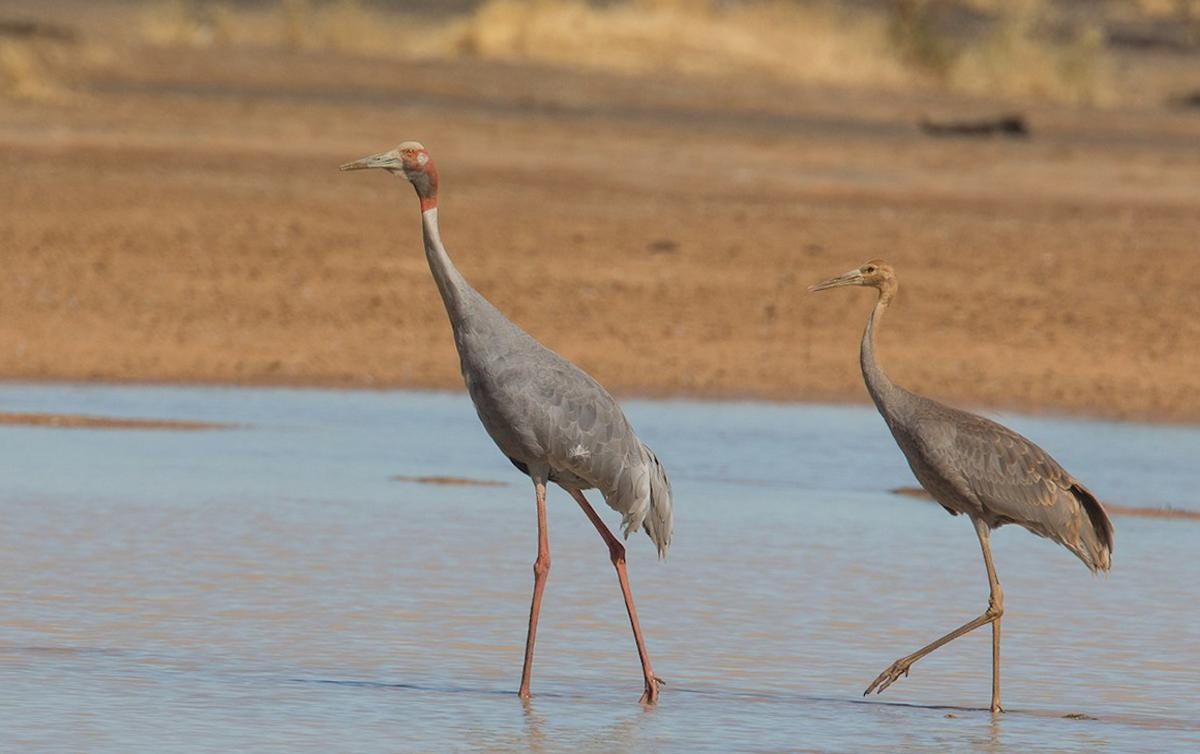crane: (338, 103, 710, 754), (785, 240, 1130, 749)
